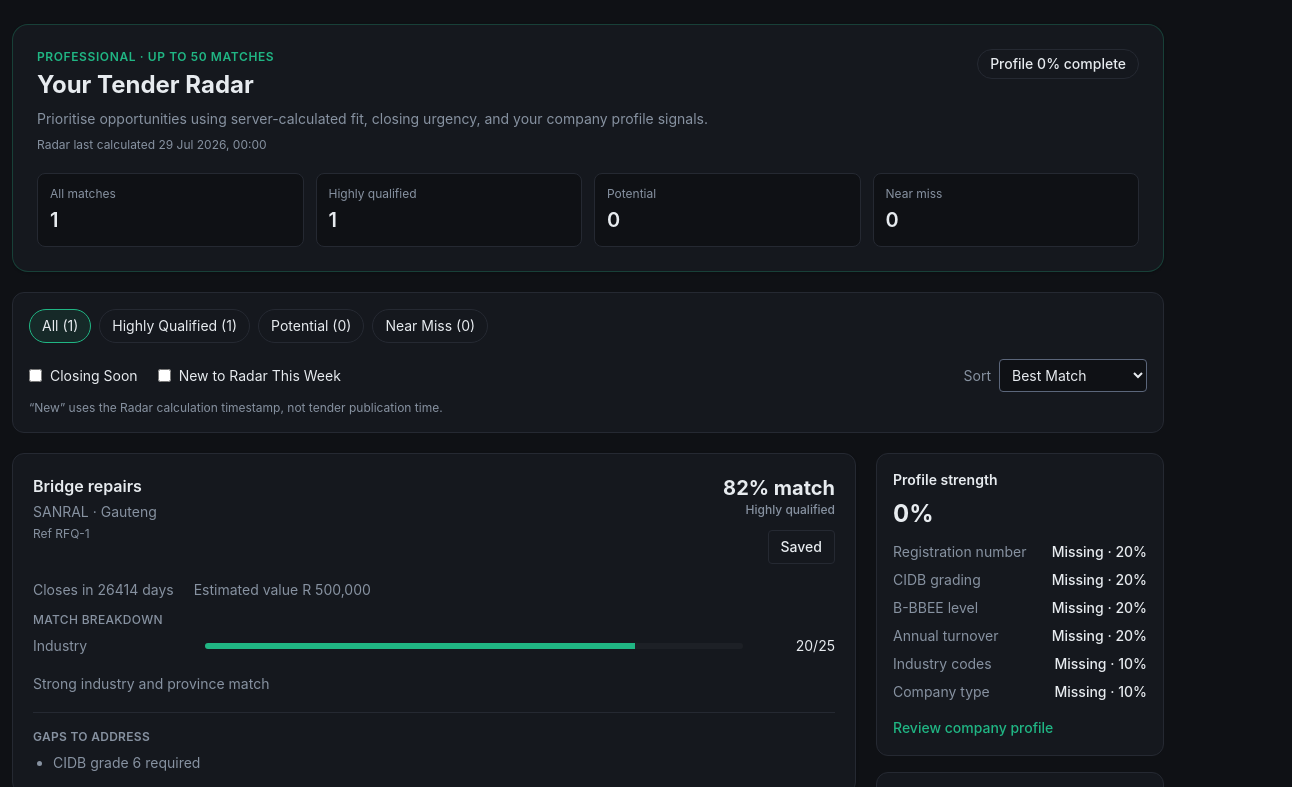
Test case: Tender Radar screen › adopts the server-returned saved state after one toggle
This screenshot has width=1292, height=787.
Click the button with aria-label "remove bridge repairs from saved tenders": (801, 547) [768,530,835,564]
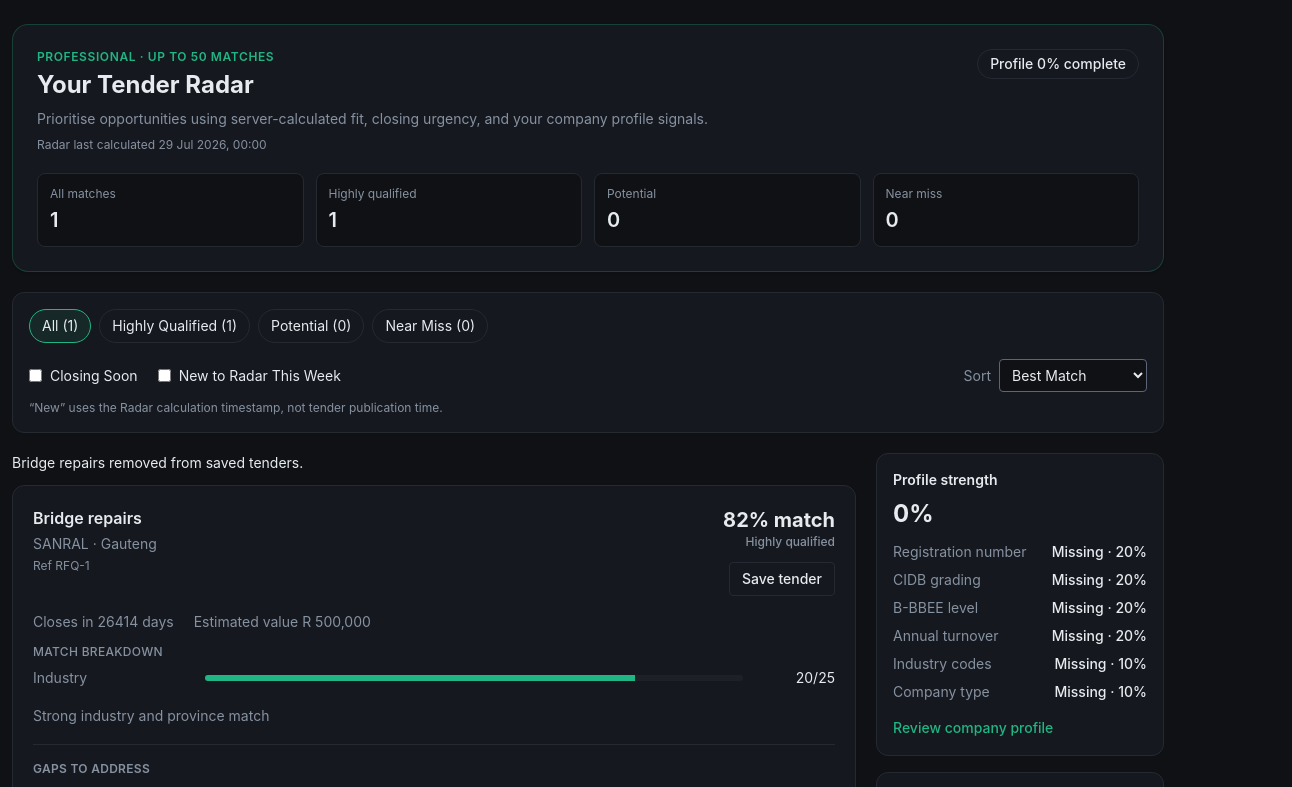
Check: the text "Bridge repairs removed from saved tenders." is shown, box [12,454,303,471]
Check: the button with aria-label "save bridge repairs" is shown, box [729,562,835,596]
